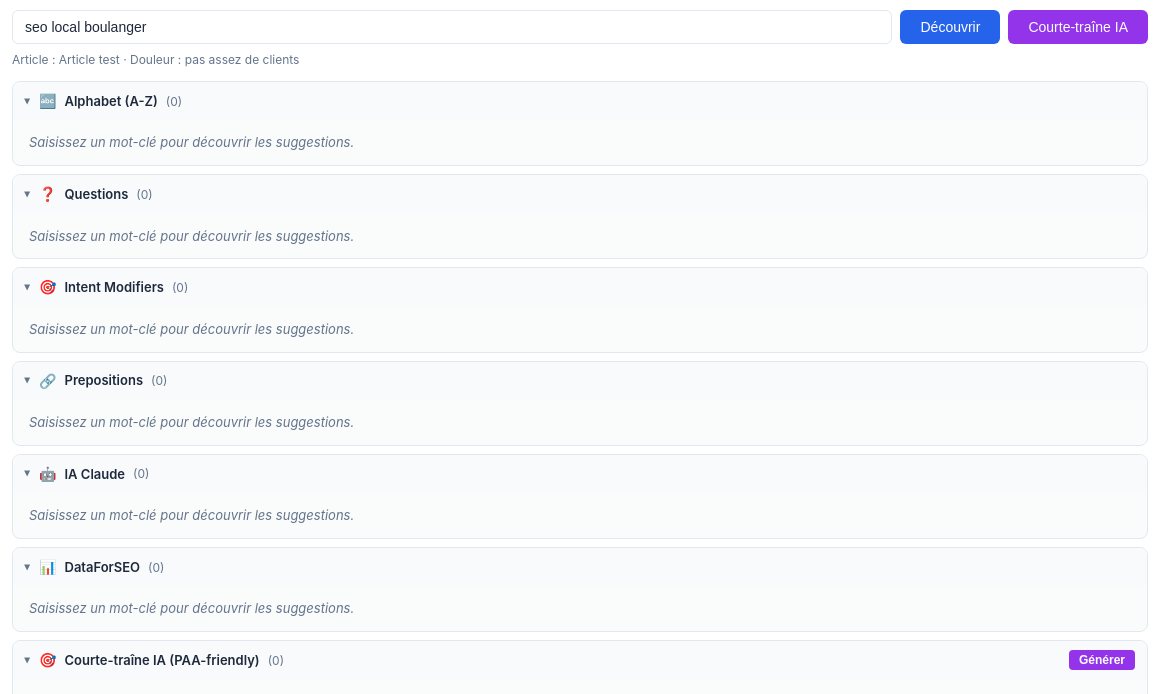
Test: DiscoveryPanel — états vides + erreur › discovery-empty global : aucun résultat global après découverte
Click the button with class "discovery-input__btn" showing "Découvrir".
click(950, 27)  # box 900,10 -> 1000,44
(page scrolled)
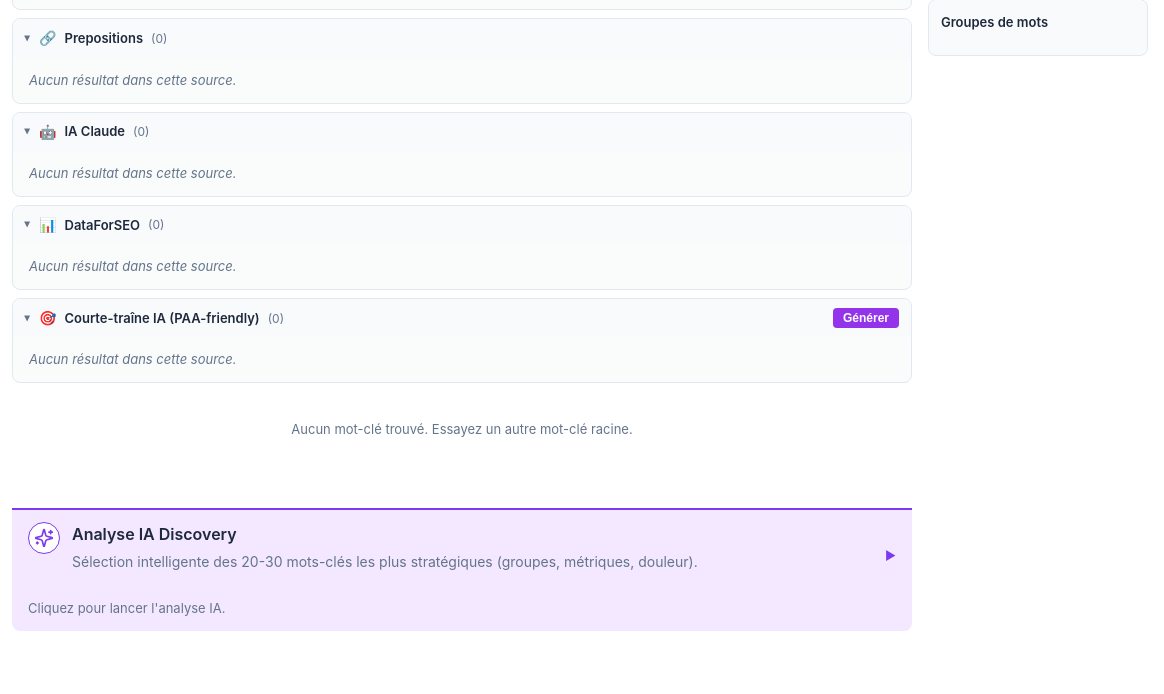
Result: the text "Aucun mot-clé trouvé. Essayez un autre mot-clé racine." is shown at 291,421 -> 633,437
